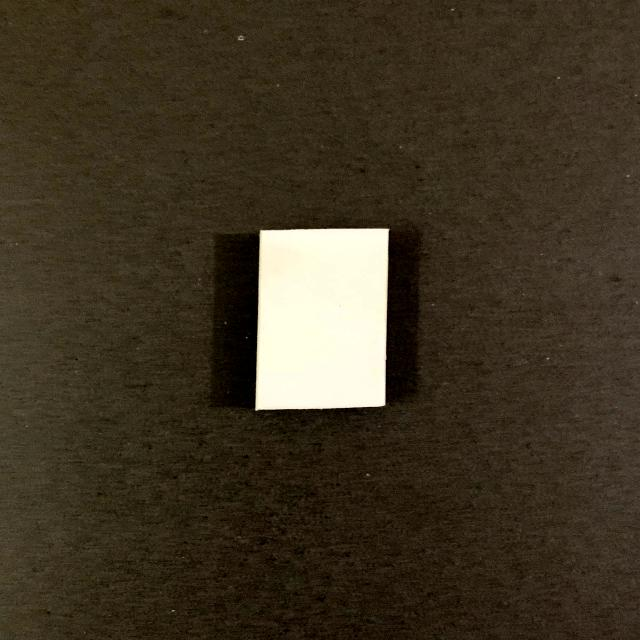Eraser: (199, 178, 439, 448)
